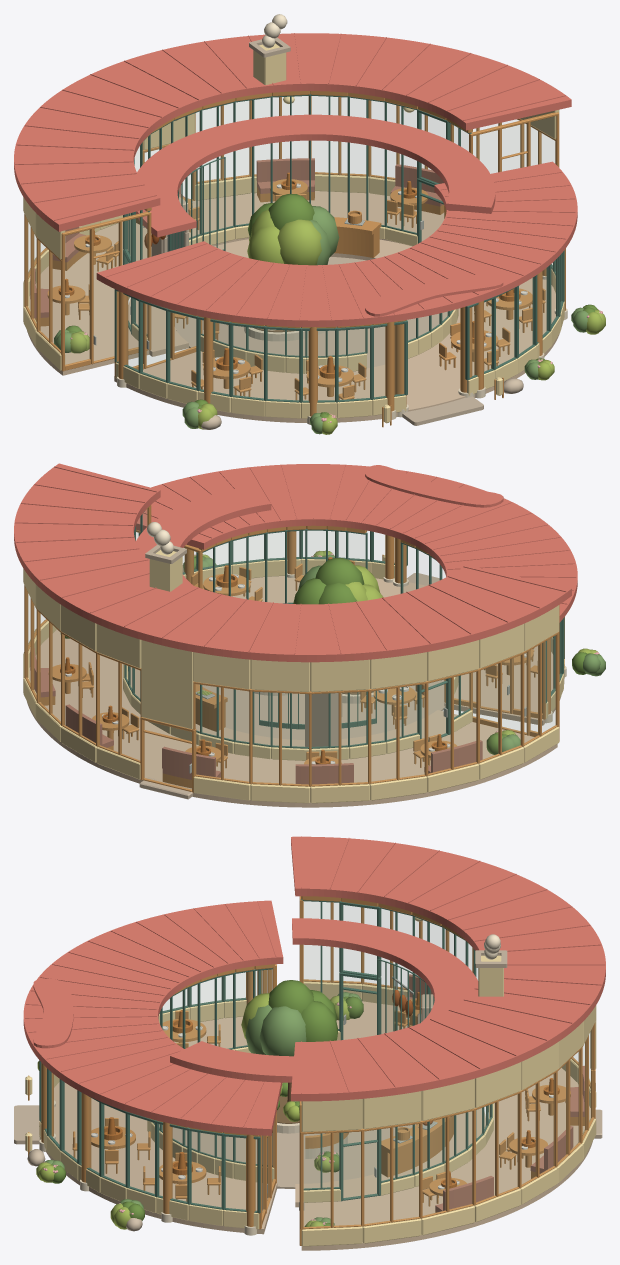
The picture shows the model from 3 angles, top to bottom: view 1: azimuth 30°, elevation 25°; view 2: azimuth 150°, elevation 25°; view 3: azimuth 270°, elevation 25°; orthographic projection. The views are drawn at different scales.
Parts seen in each view (by area): view 1: R 后扩高弧形屋顶, R 前弧珊瑚红曲屋盖, R 前庭低弧服务檐, A 前厅曲面绿框玻璃, S 前弧餐厅室内地板, S 后部大半圆就餐馆楼面, A 前厅曲面奶油墙裙, L 乔木 · 枝干与树冠, A 前弧木柱, A 后馆完整内弧玻璃, A 后馆外弧采光窗, S 庭院局部石地面 (+26 smaller); view 2: R 后扩高弧形屋顶, R 前弧珊瑚红曲屋盖, A 后馆外弧完整高墙, S 后部大半圆就餐馆楼面, A 后馆外弧采光窗, A 后馆外弧连续实墙裙, A 前厅曲面绿框玻璃, S 庭院局部石地面, S 前弧餐厅室内地板, A 后勤门上实墙, I 半圆厅弧形靠背, R 前庭低弧服务檐 (+29 smaller); view 3: R 后扩高弧形屋顶, R 前弧珊瑚红曲屋盖, S 后部大半圆就餐馆楼面, R 前庭低弧服务檐, A 前厅曲面绿框玻璃, A 后馆外弧采光窗, A 后馆外弧完整高墙, S 前弧餐厅室内地板, A 后馆外弧连续实墙裙, A 前厅曲面奶油墙裙, L 乔木 · 枝干与树冠, S 庭院局部石地面 (+24 smaller).
Part boxes in pixels (bbox=[...]): R 后扩高弧形屋顶: bbox=[14, 33, 571, 231]; R 前弧珊瑚红曲屋盖: bbox=[96, 161, 577, 326]; R 前庭低弧服务檐: bbox=[136, 114, 495, 237]; A 前厅曲面绿框玻璃: bbox=[114, 250, 564, 402]; S 前弧餐厅室内地板: bbox=[114, 278, 559, 422]; S 后部大半圆就餐馆楼面: bbox=[27, 191, 444, 375]; A 前厅曲面奶油墙裙: bbox=[115, 268, 564, 418]; L 乔木 · 枝干与树冠: bbox=[247, 194, 339, 265]; A 前弧木柱: bbox=[118, 248, 565, 416]; A 后馆完整内弧玻璃: bbox=[128, 94, 471, 336]; A 后馆外弧采光窗: bbox=[24, 96, 556, 354]; S 庭院局部石地面: bbox=[175, 257, 447, 368]; R 后扩高弧形屋顶: bbox=[14, 463, 571, 662]; R 前弧珊瑚红曲屋盖: bbox=[136, 464, 577, 622]; A 后馆外弧完整高墙: bbox=[23, 568, 559, 692]; S 后部大半圆就餐馆楼面: bbox=[27, 629, 557, 807]; A 后馆外弧采光窗: bbox=[24, 585, 559, 786]; A 后馆外弧连续实墙裙: bbox=[23, 621, 559, 803]; A 前厅曲面绿框玻璃: bbox=[138, 529, 564, 703]; S 庭院局部石地面: bbox=[199, 679, 445, 739]; S 前弧餐厅室内地板: bbox=[231, 575, 561, 725]; A 后勤门上实墙: bbox=[141, 640, 193, 729]; I 半圆厅弧形靠背: bbox=[30, 648, 482, 784]; R 前庭低弧服务檐: bbox=[136, 485, 271, 585]; R 后扩高弧形屋顶: bbox=[291, 836, 605, 1101]; R 前弧珊瑚红曲屋盖: bbox=[23, 900, 283, 1135]; S 后部大半圆就餐馆楼面: bbox=[301, 1001, 592, 1250]; R 前庭低弧服务檐: bbox=[170, 918, 478, 1082]; A 前厅曲面绿框玻璃: bbox=[39, 968, 273, 1213]; A 后馆外弧采光窗: bbox=[300, 902, 595, 1229]; A 后馆外弧完整高墙: bbox=[301, 1005, 596, 1132]; S 前弧餐厅室内地板: bbox=[39, 1016, 277, 1234]; A 后馆外弧连续实墙裙: bbox=[301, 981, 596, 1246]; A 前厅曲面奶油墙裙: bbox=[39, 1000, 274, 1229]; L 乔木 · 枝干与树冠: bbox=[241, 980, 338, 1101]; S 庭院局部石地面: bbox=[159, 1124, 416, 1188].
Bounding box in the file's own units: 23.5 × 9.5 × 22.85.
